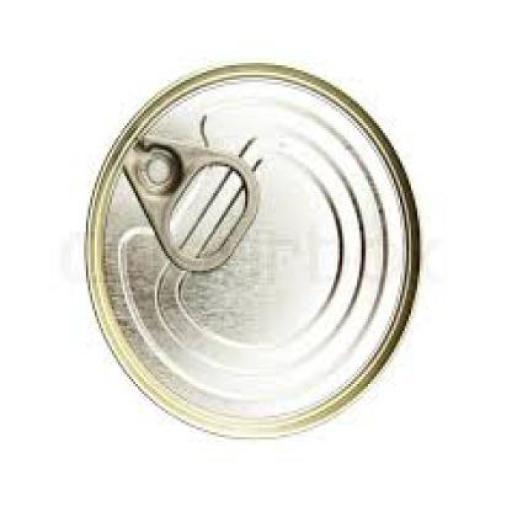metal: (84, 58, 417, 439)
